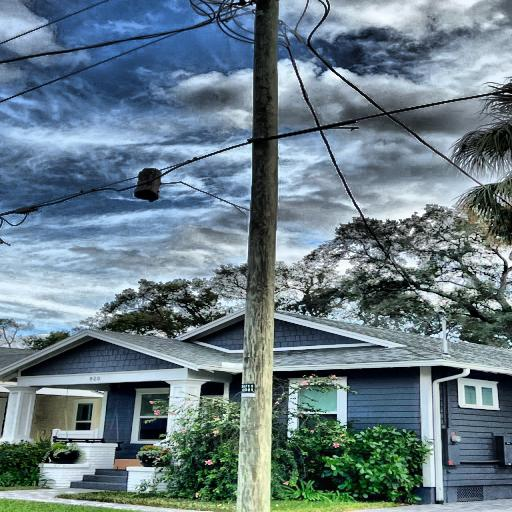pole: (221, 0, 290, 512)
